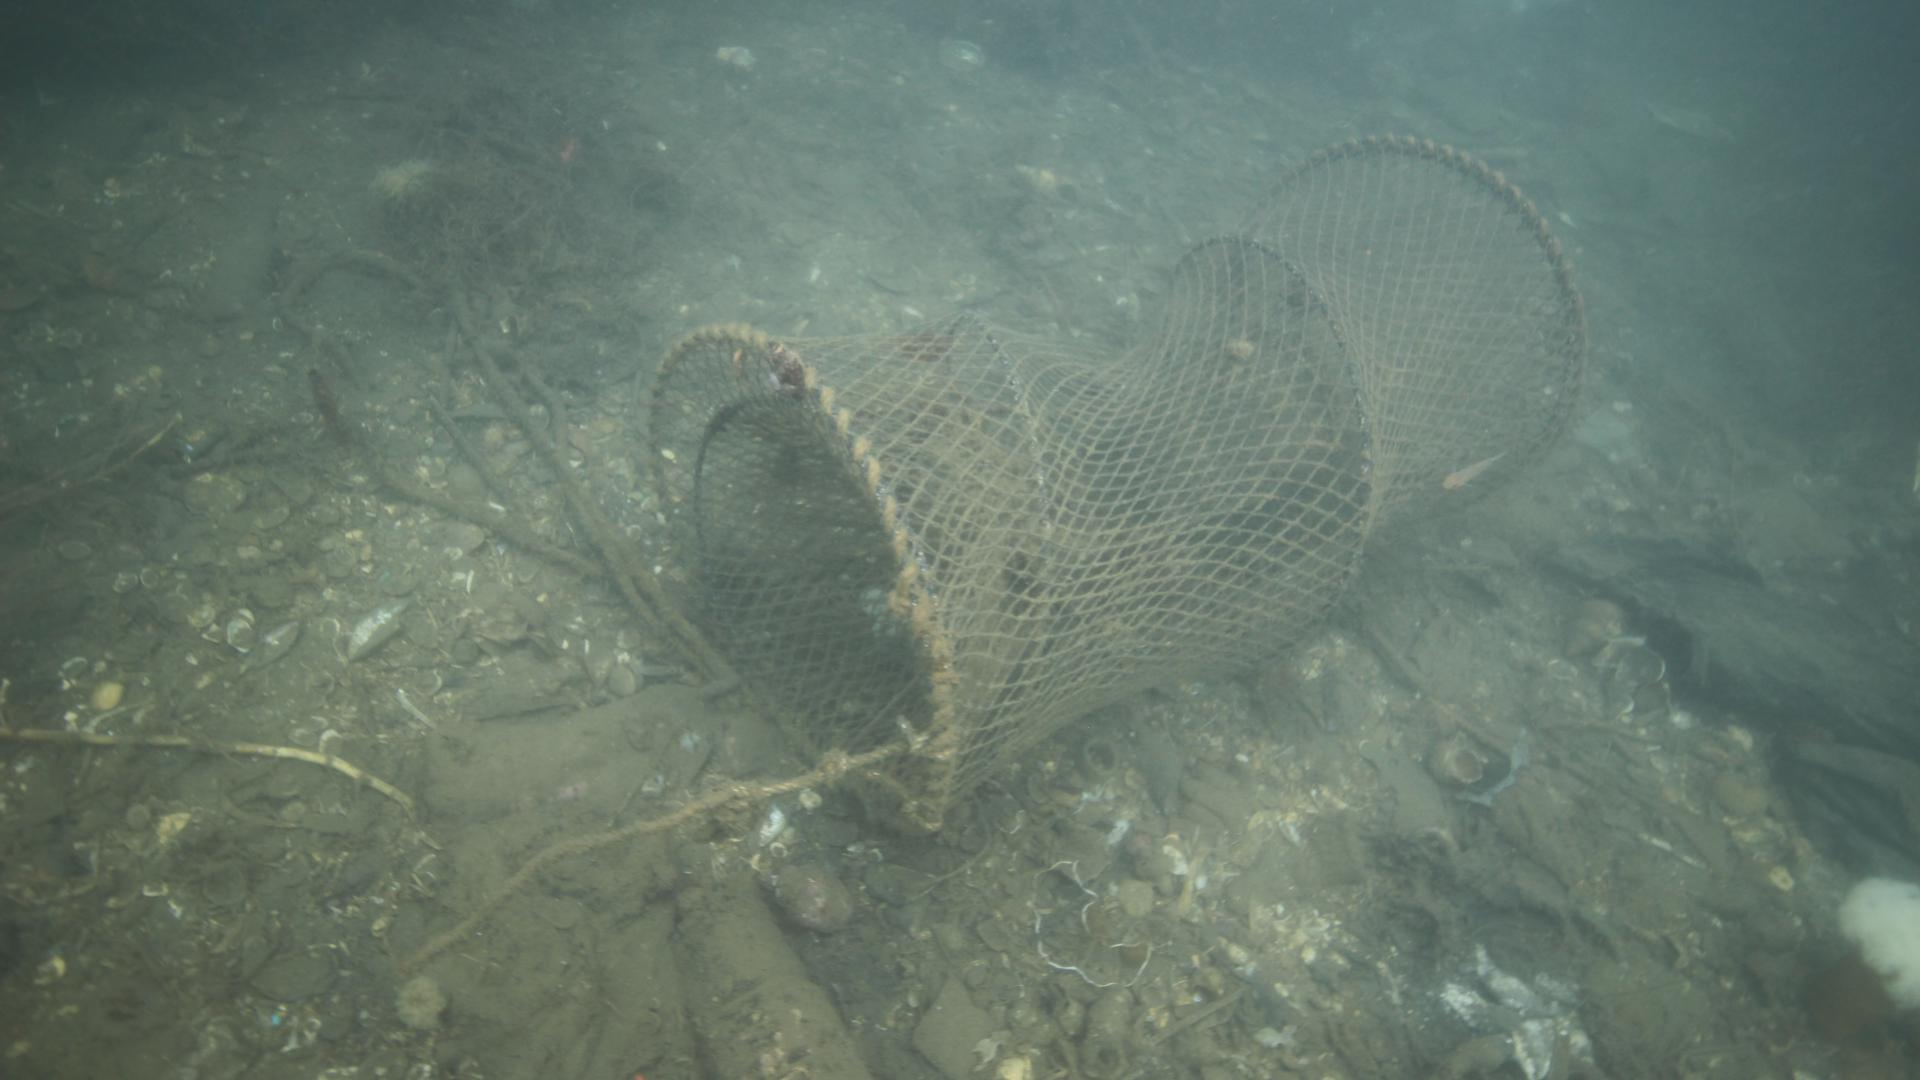rope: (385, 719, 927, 982)
spring fish trap: (645, 129, 1585, 839)
